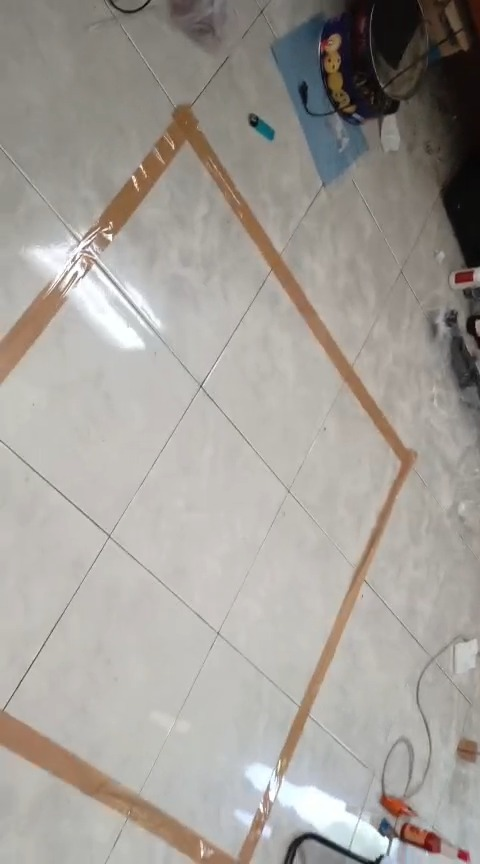floor marking: (0, 106, 415, 863)
